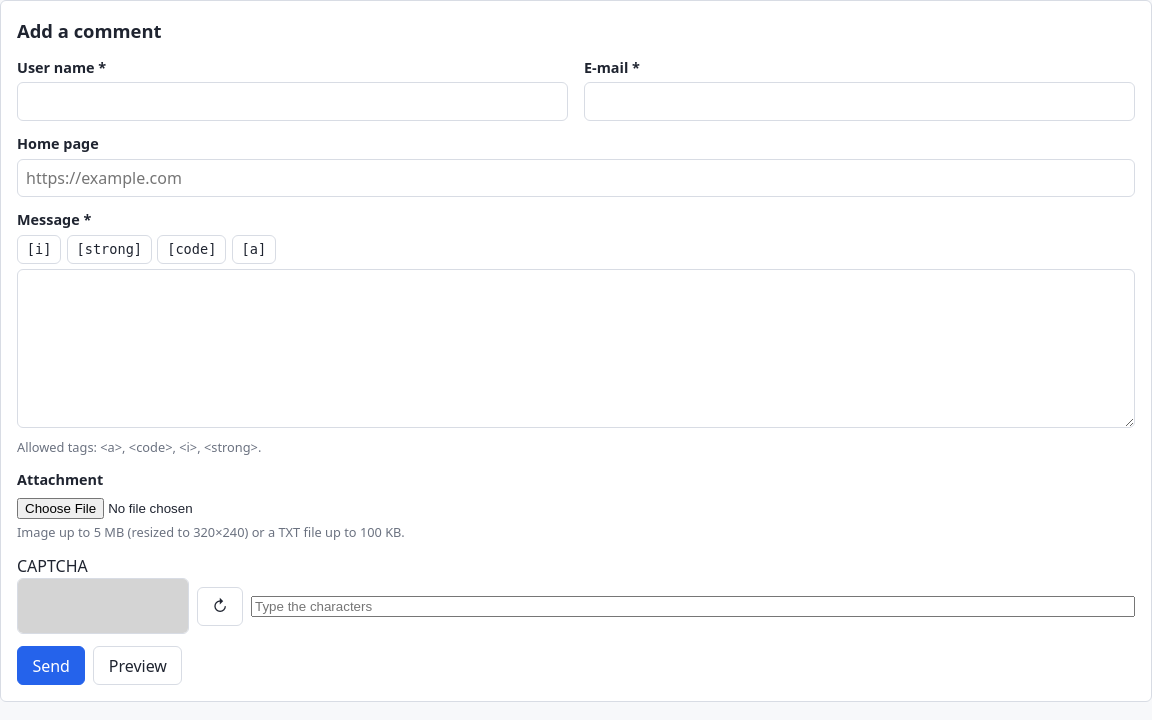
Test: CommentForm › reports a wrong value of #user_name
Type "Anonym" into the field with id "user_name" at (292, 102), box x1=17 y1=82 x2=568 y2=121
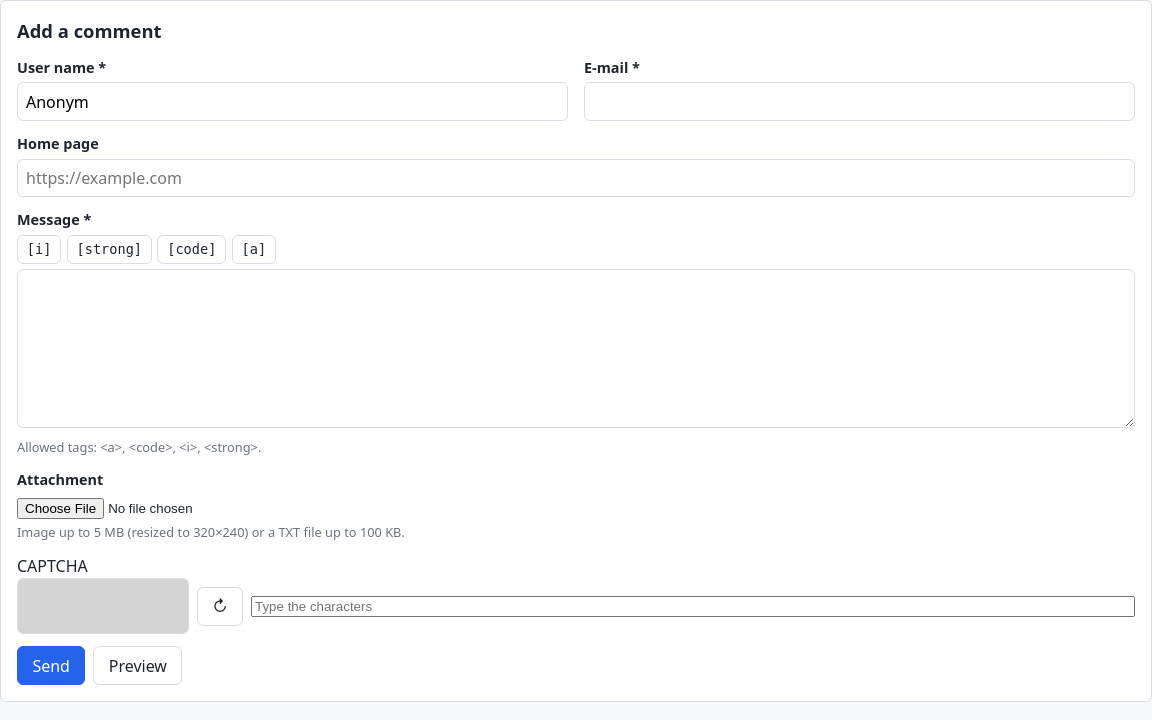
Type "anonym@example.com" into the field with id "email" at (860, 102), box x1=584 y1=82 x2=1135 y2=121
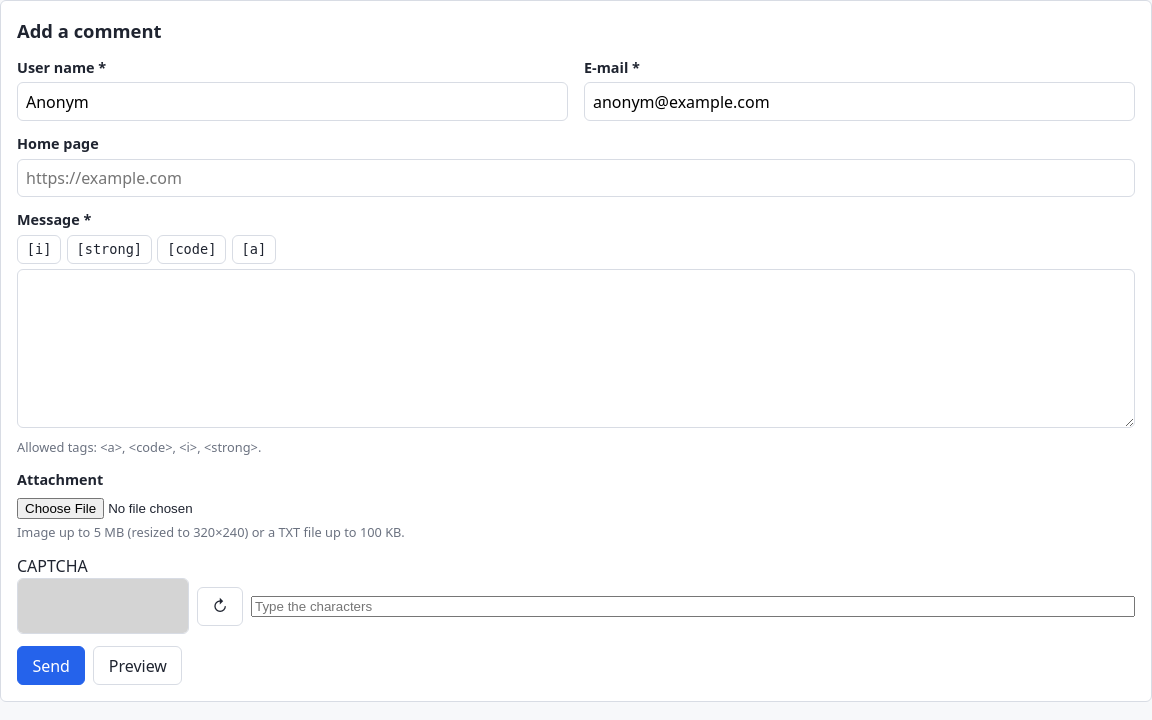
Type "Hello there" into the text box labelled "Message *" at (576, 349), box x1=17 y1=269 x2=1135 y2=428
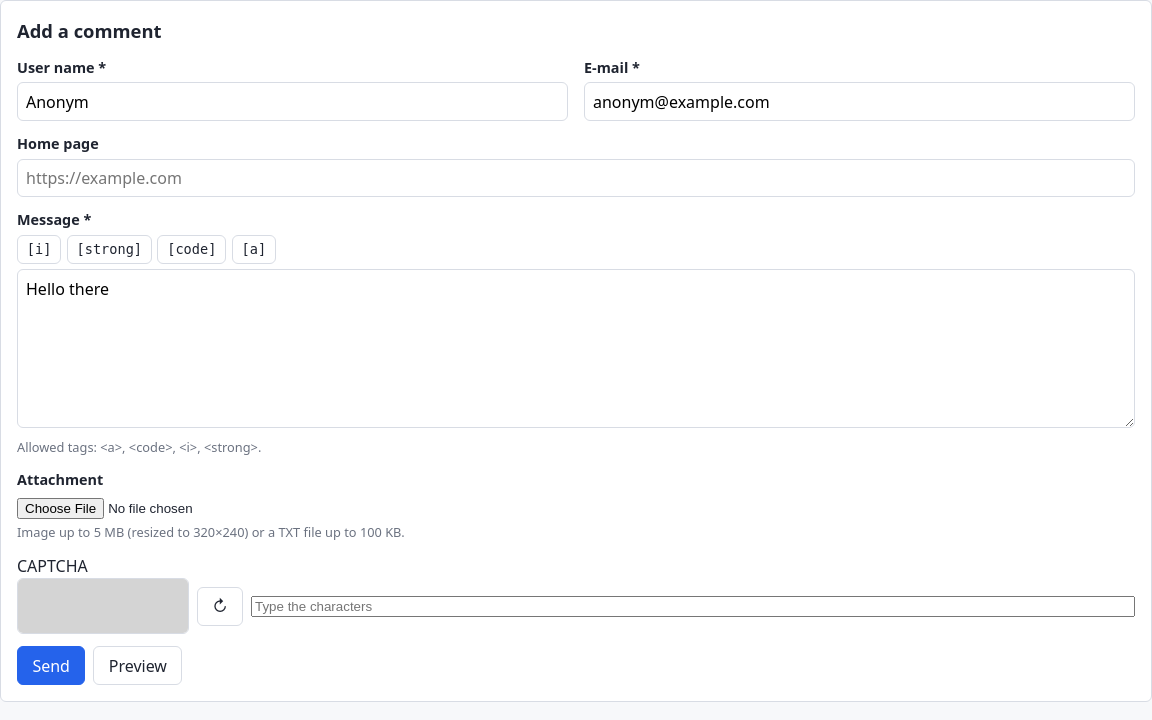
Type "ABC123" into the field with id "captcha" at (693, 606), box x1=251 y1=596 x2=1135 y2=617
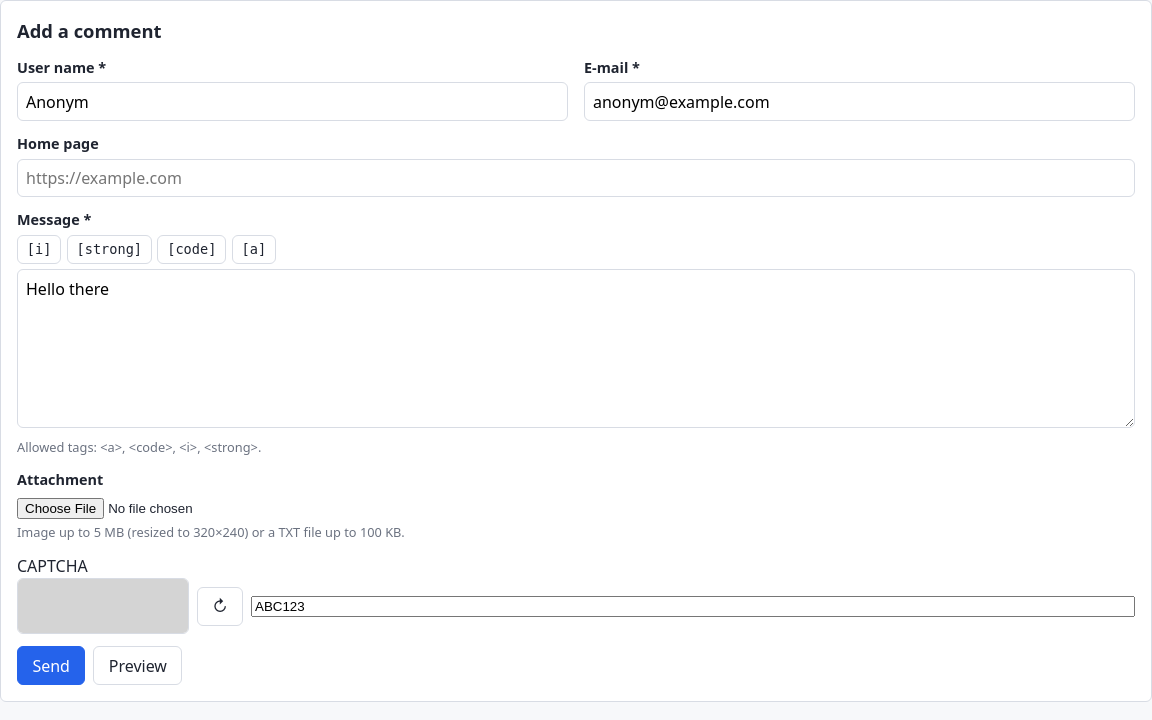
Replace the text in the field with id "user_name" with "Денис" at (292, 102), box x1=17 y1=82 x2=568 y2=121
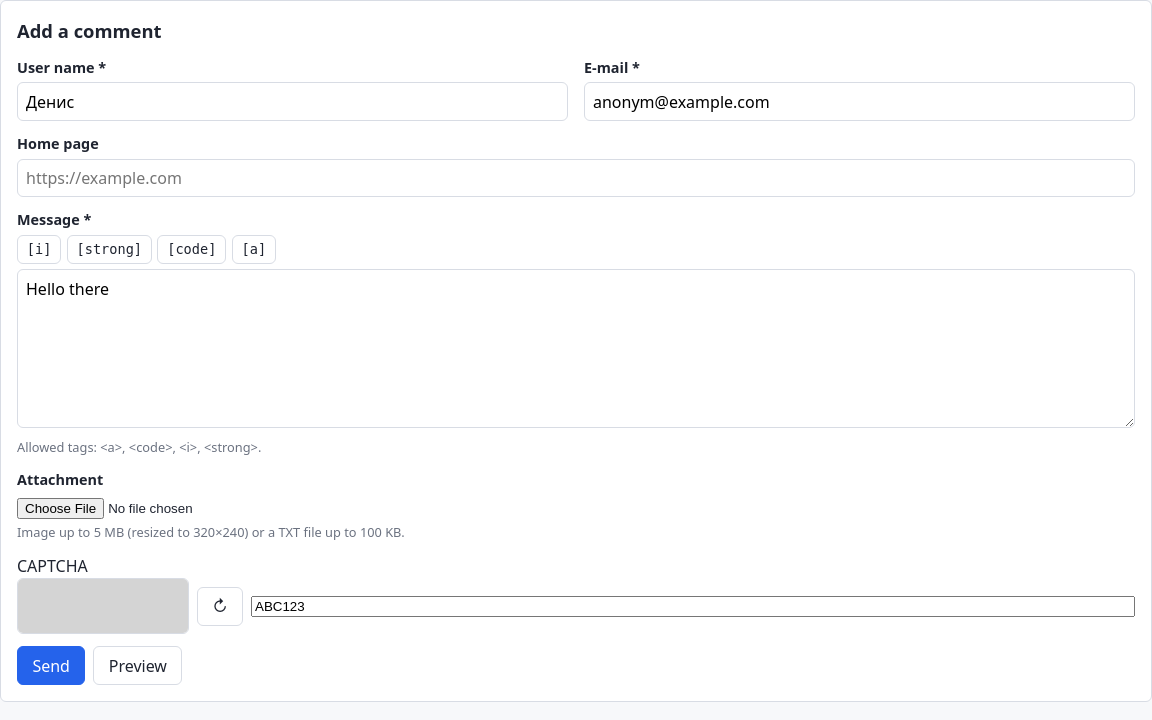
Submit the form
(page scrolled)
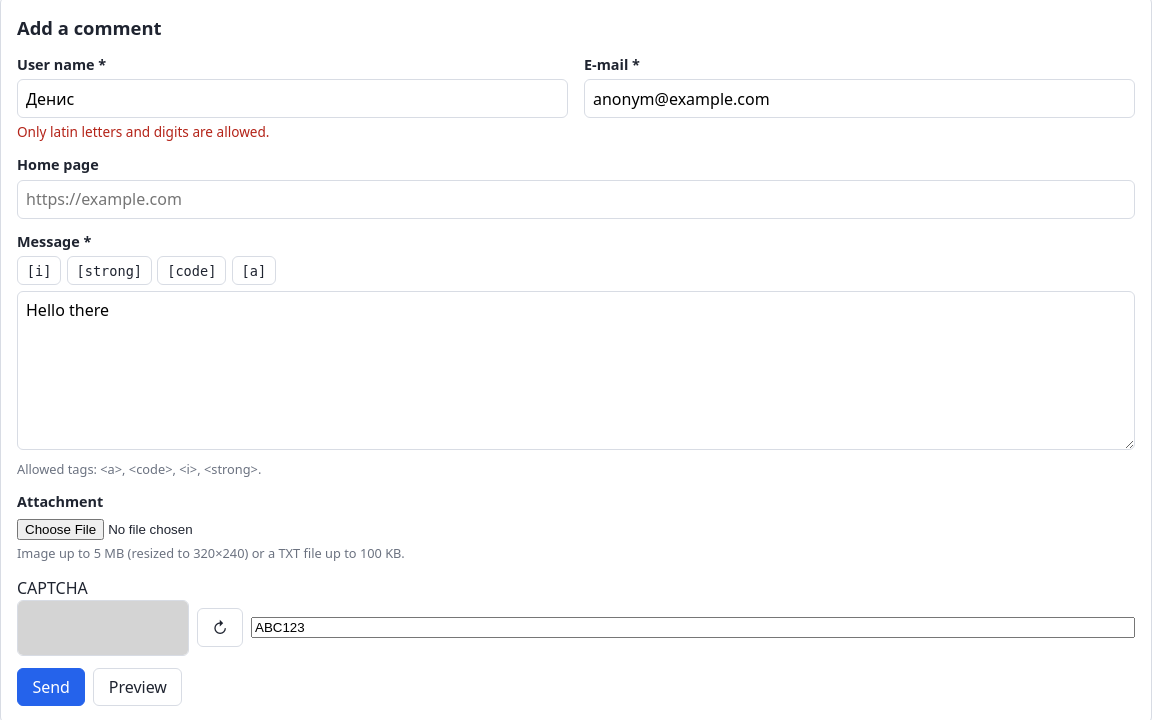
Expected: the form shows "Only latin letters and digits are allowed.", x1=17 y1=122 x2=270 y2=141
